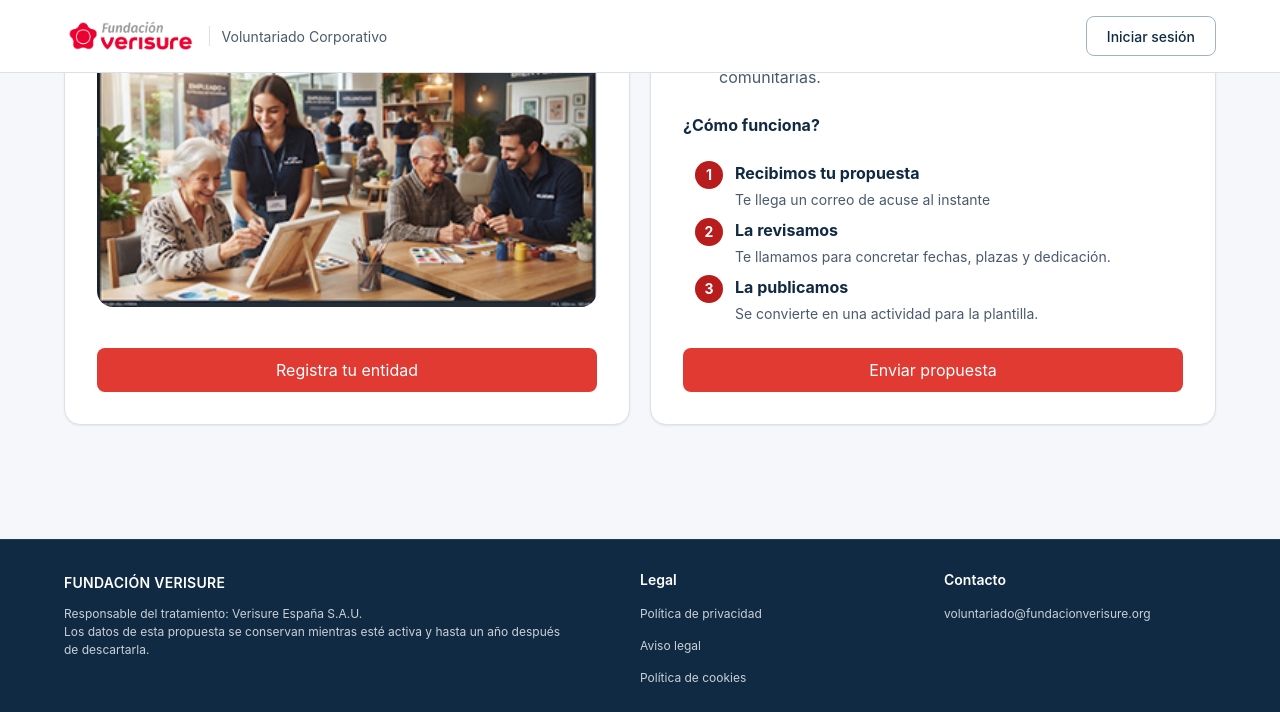
LandingPage › el CTA "Enviar propuesta" navega a /new-proposal
(page scrolled)
Click the link "Enviar propuesta".
click(933, 370)  # box [683,348,1183,392]
(page scrolled)
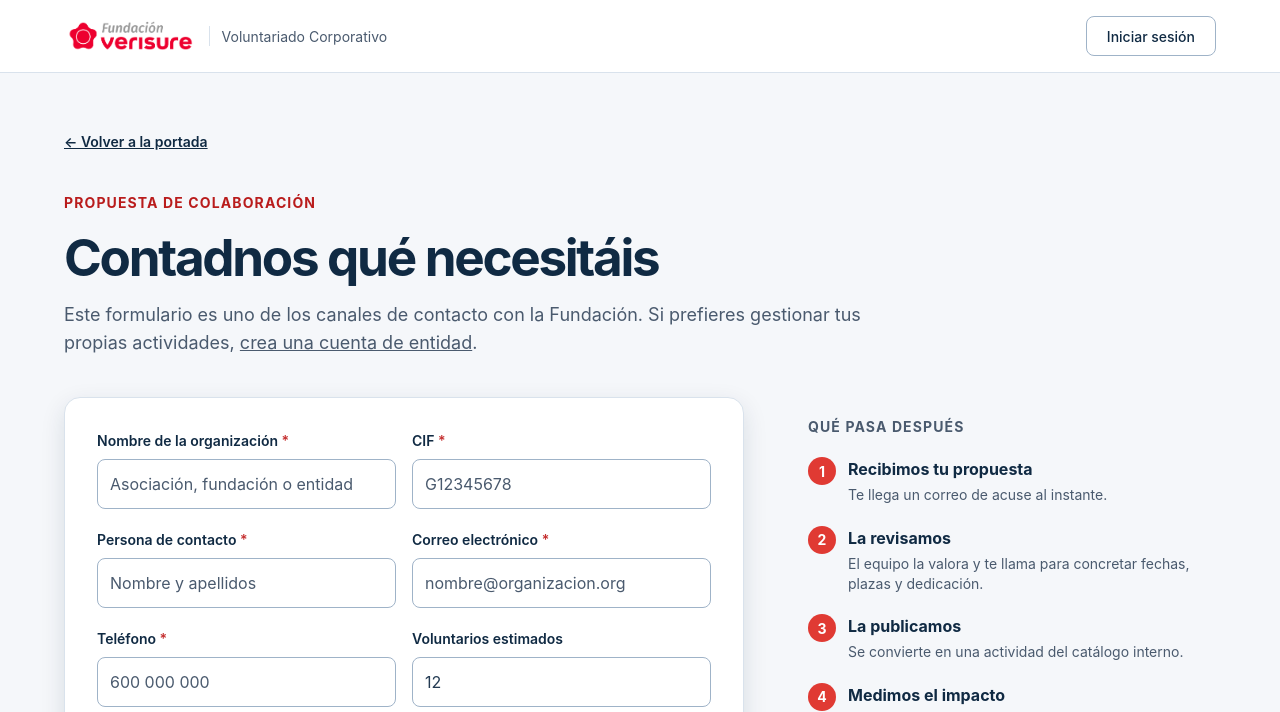
Expected: the heading "Contadnos qué necesitáis" is shown, [64,226,658,288]
